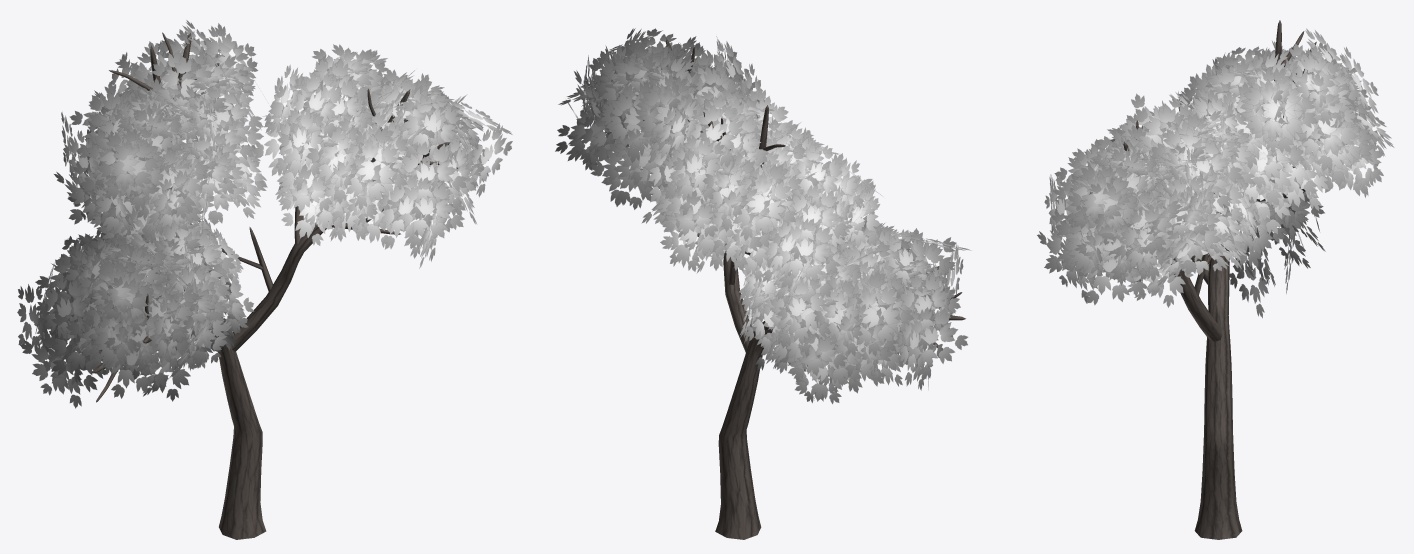
File: tr_maple0.glb
3 views of the same model, side by side, from view 1: azimuth 30°, elevation 25°; view 2: azimuth 150°, elevation 25°; view 3: azimuth 270°, elevation 25° (orthographic). The views are drawn at different scales.
Visible parts, largest first — view 1: tree; view 2: tree; view 3: tree.
Part boxes in pixels (box(x1,y1,x2,y2)): tree: box(17, 20, 512, 539); tree: box(555, 28, 970, 539); tree: box(1037, 20, 1394, 539).
Size of the model in its own units: 6.74 by 7 by 4.88.
2 materials, 2 textured.
